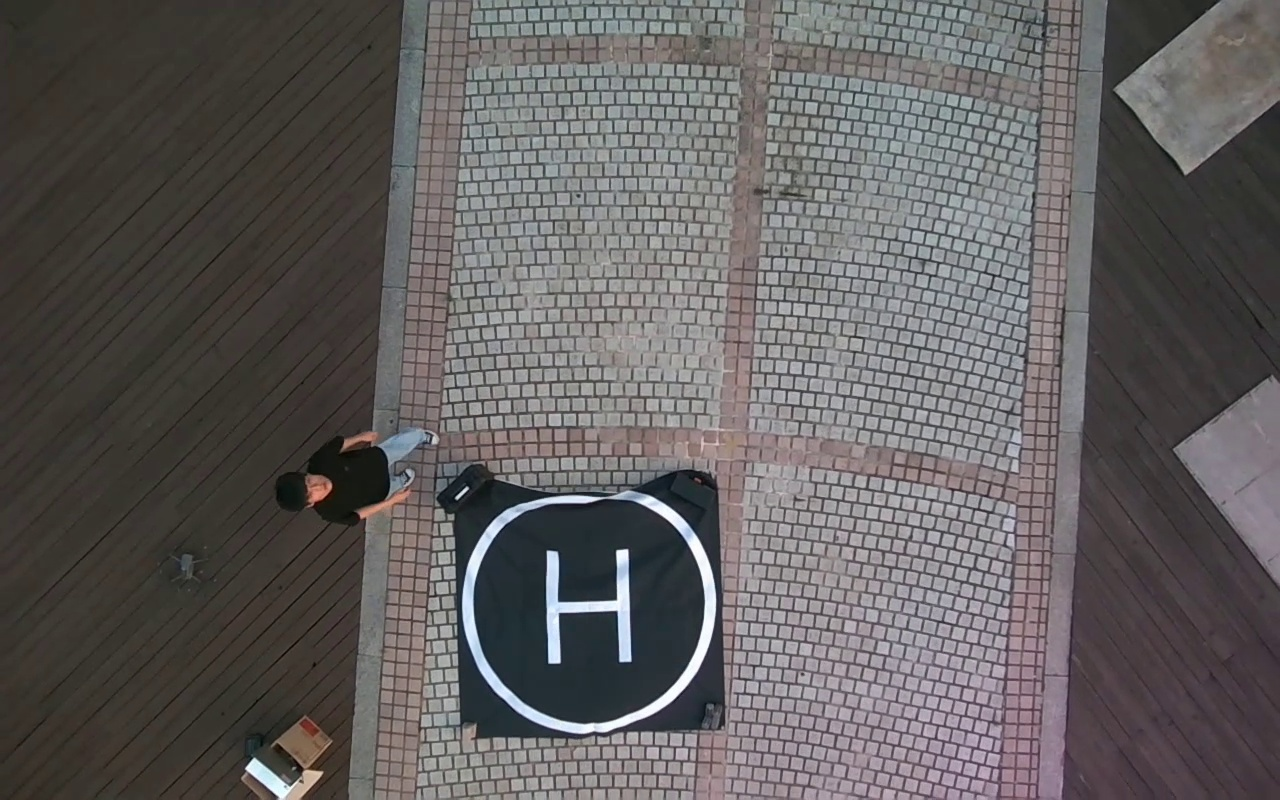H: (544, 546, 633, 663)
heliport: (462, 491, 717, 729)
